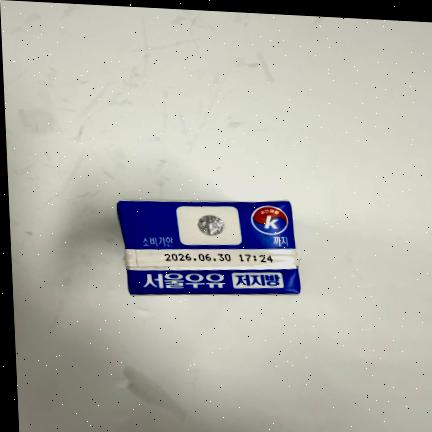milk_blue: (117, 201, 302, 295)
